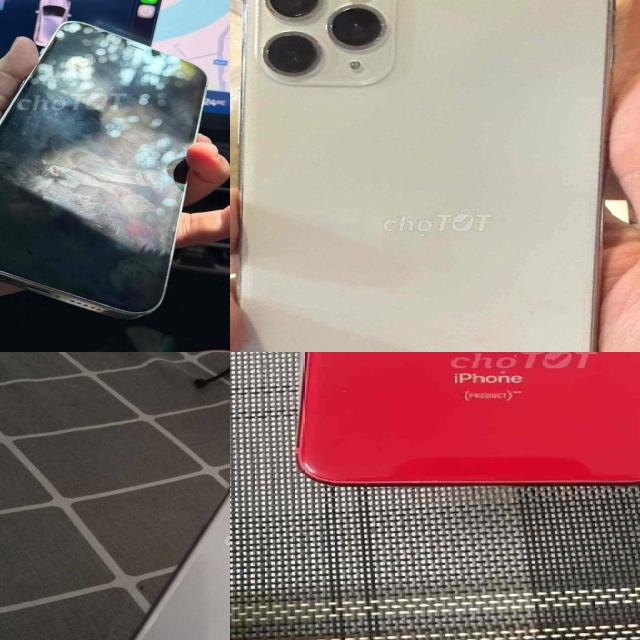scratch: (324, 378, 362, 408)
